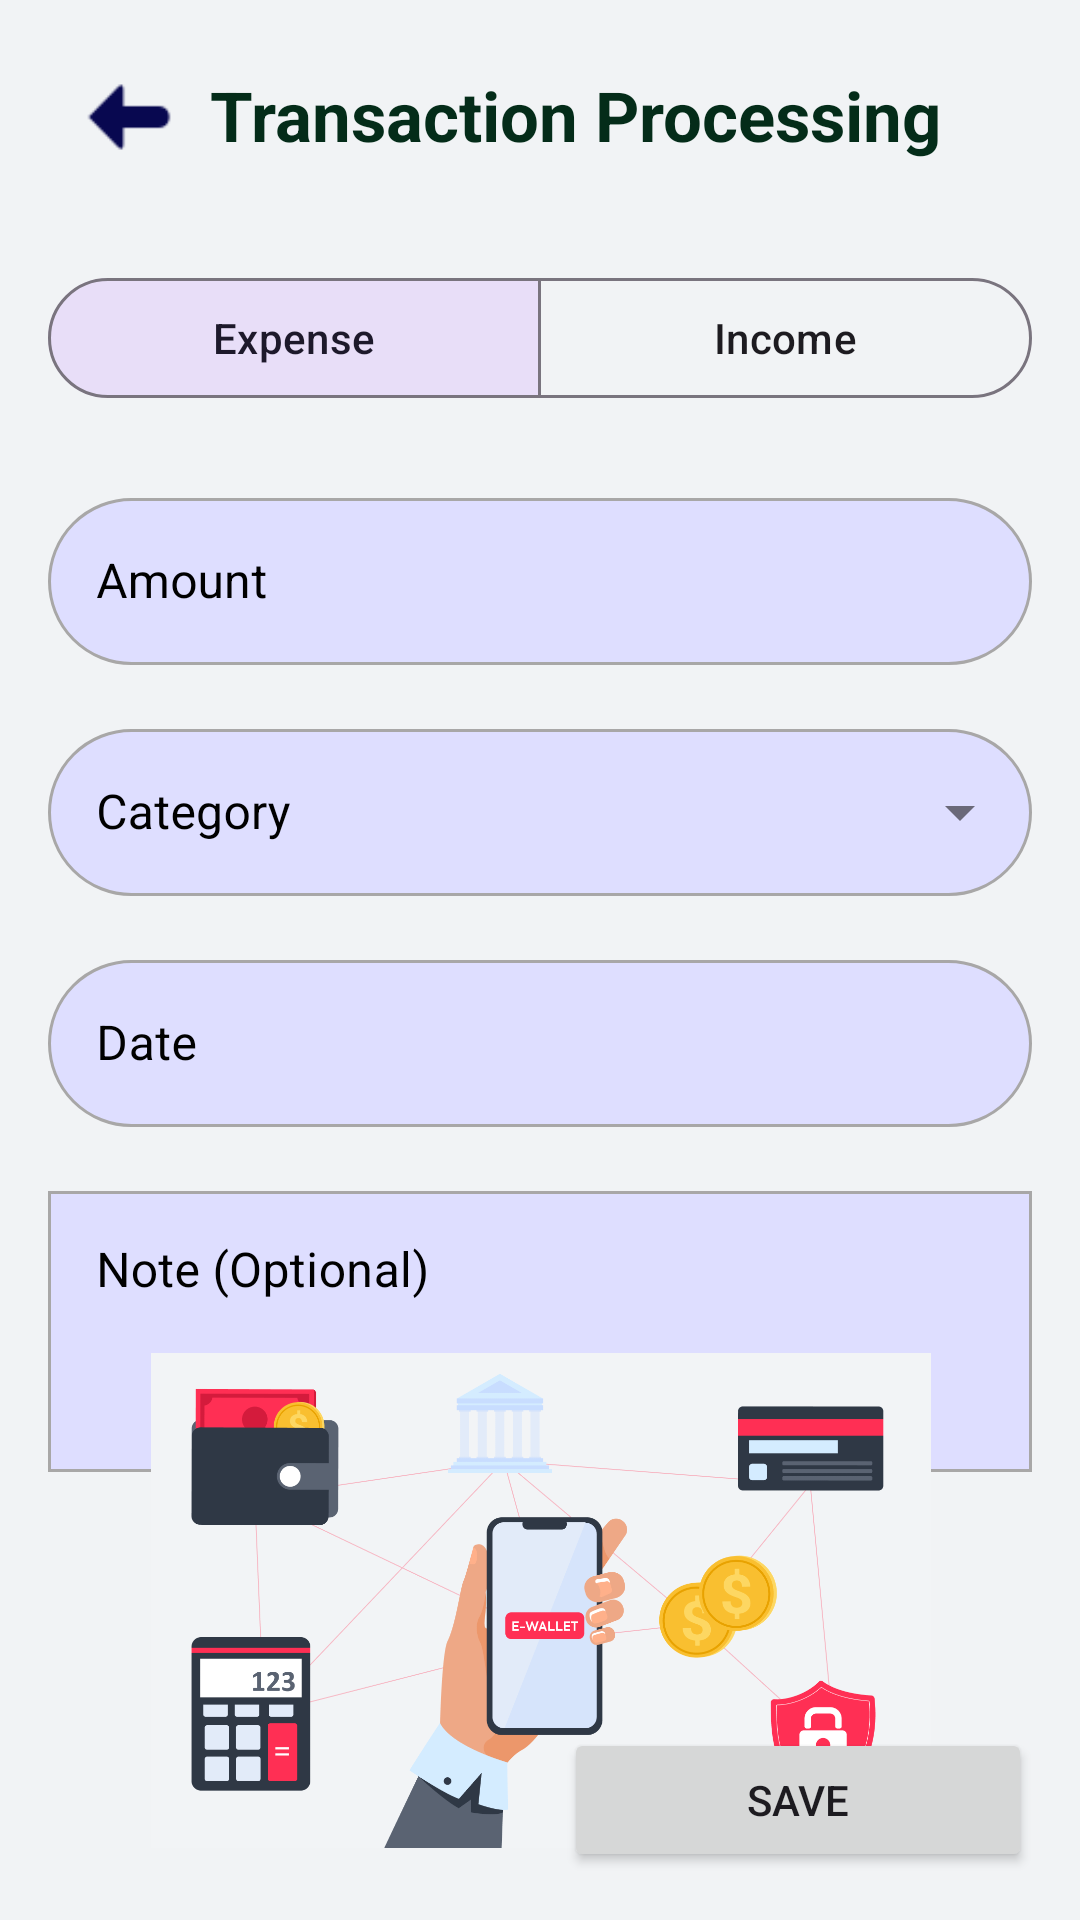

Icon bounding boxes for this 1080w x 1920h phone screenshot, format (x1, y1, x2, y2):
arrow: (88, 84, 171, 150)
